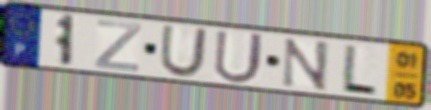1: (54, 12, 79, 70)
L: (338, 42, 380, 98)
N: (279, 36, 332, 93)
U: (212, 28, 268, 86), (157, 24, 211, 80)
Z: (93, 18, 144, 74)
